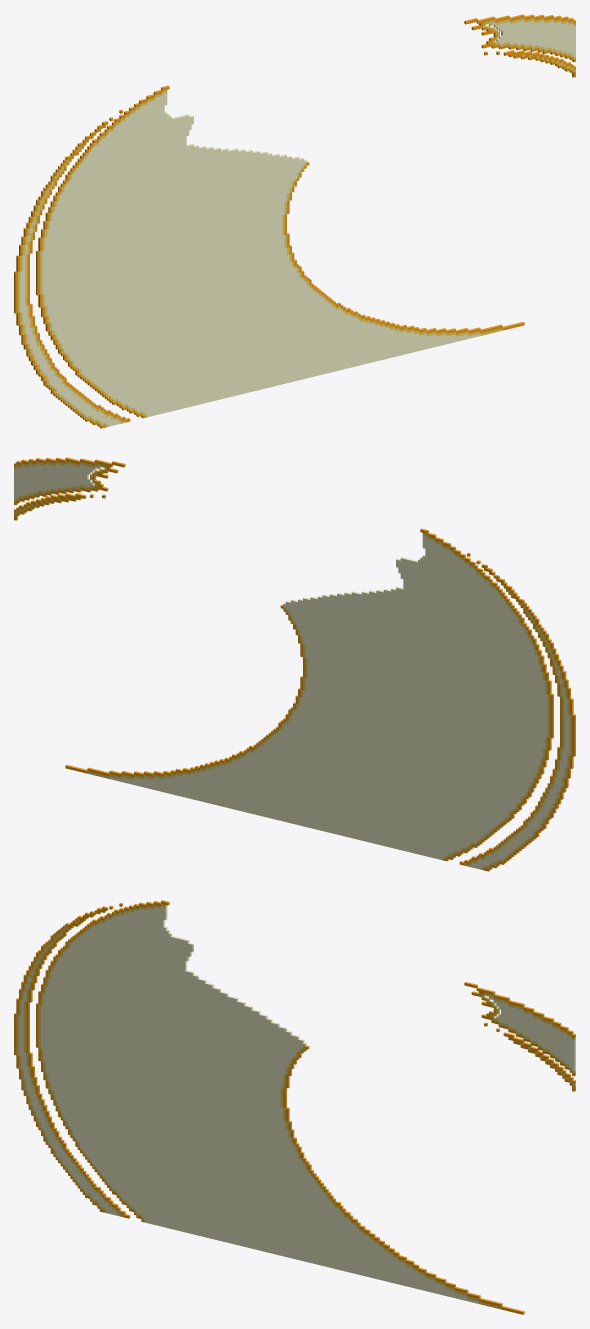
Rendered from Fight_117_2_05_fx.obj.
3 renders of one model, top to bottom at view 1: azimuth 30°, elevation 25°; view 2: azimuth 150°, elevation 25°; view 3: azimuth 330°, elevation 25°, orthographic.
Size of the model in its own units: 22.9 by 12.7 by 0.1.
